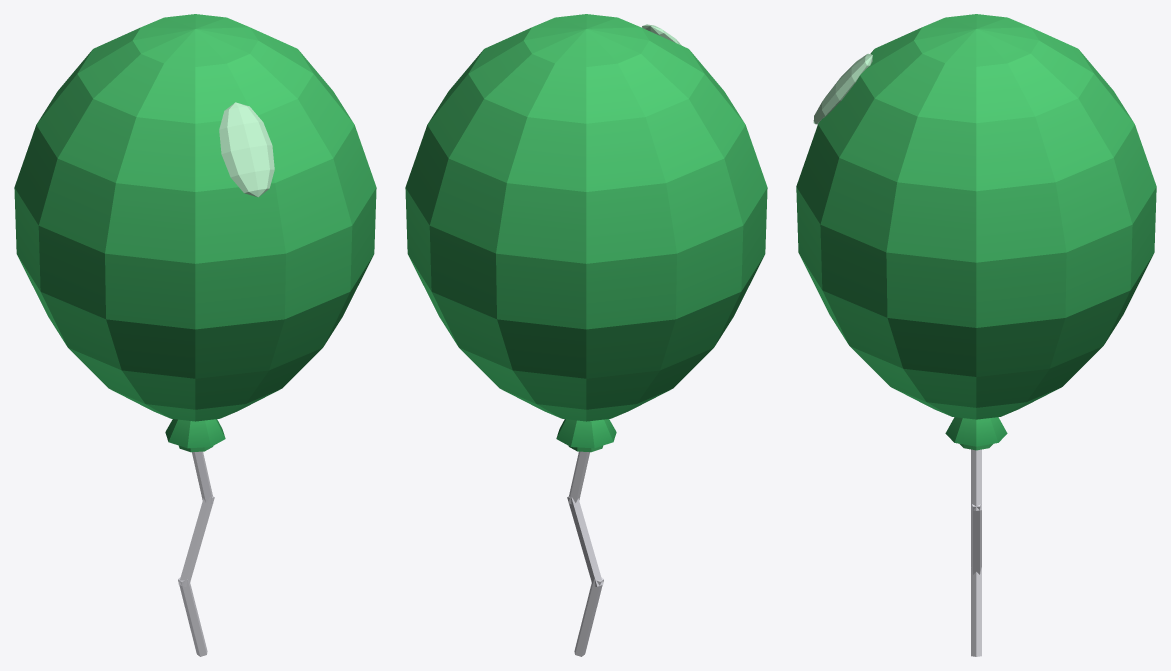
File: balloon_green.glb
3 views of the same model, side by side, from view 1: azimuth 30°, elevation 25°; view 2: azimuth 150°, elevation 25°; view 3: azimuth 270°, elevation 25° (orthographic).
Parts seen in each view (by area): view 1: balloon, string; view 2: balloon, string; view 3: balloon, string.
Part boxes in pixels (bbox=[...]): balloon: bbox=[14, 14, 376, 452]; string: bbox=[178, 451, 214, 656]; balloon: bbox=[405, 14, 767, 452]; string: bbox=[567, 451, 603, 656]; balloon: bbox=[796, 14, 1156, 450]; string: bbox=[971, 449, 981, 656].
Bounding box in the file's own units: 0.9848 × 1.88 × 0.9848.
1 material, 1 textured.
